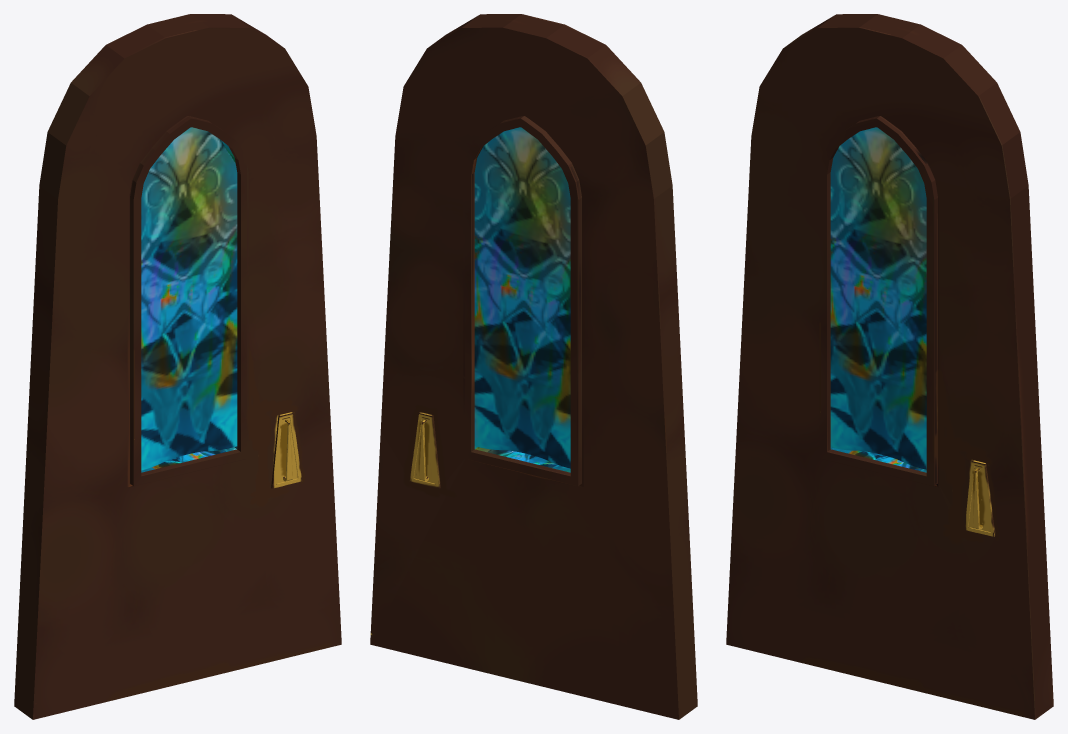
The model's file is brown wooden door.fbx.
The picture shows the model from 3 angles, left to right: view 1: azimuth 30°, elevation 25°; view 2: azimuth 150°, elevation 25°; view 3: azimuth 330°, elevation 25°; orthographic projection.
Visible parts, largest first — view 1: Cube, Cube.001; view 2: Cube, Cube.001; view 3: Cube, Cube.001.
Part boxes in pixels (x1,y1,x2,y2): Cube: (14,14,341,719); Cube.001: (141,127,237,472); Cube: (370,14,697,719); Cube.001: (474,127,570,472); Cube: (726,14,1053,719); Cube.001: (830,127,926,472).
Size of the model in its own units: 268 by 538 by 39.32.
2 materials, 2 textured.
